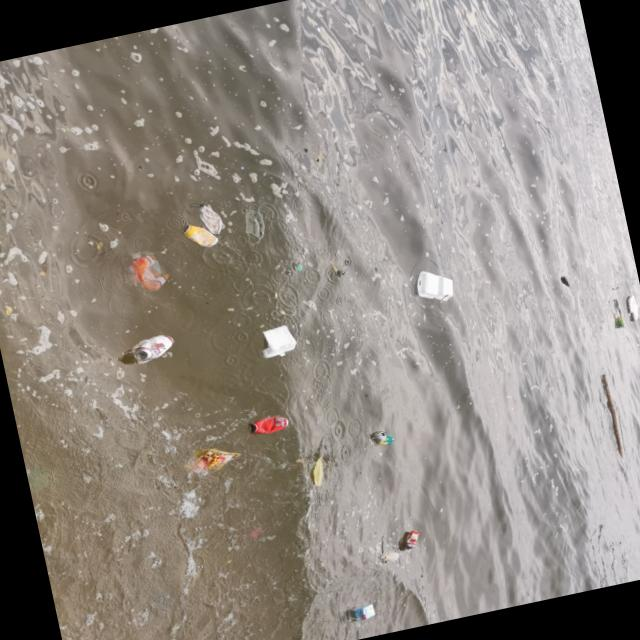can: (131, 334, 177, 364), (180, 221, 219, 254), (249, 414, 291, 438), (373, 429, 397, 449), (618, 317, 626, 329)
foam: (413, 265, 457, 307), (256, 325, 297, 362), (625, 296, 640, 324)
